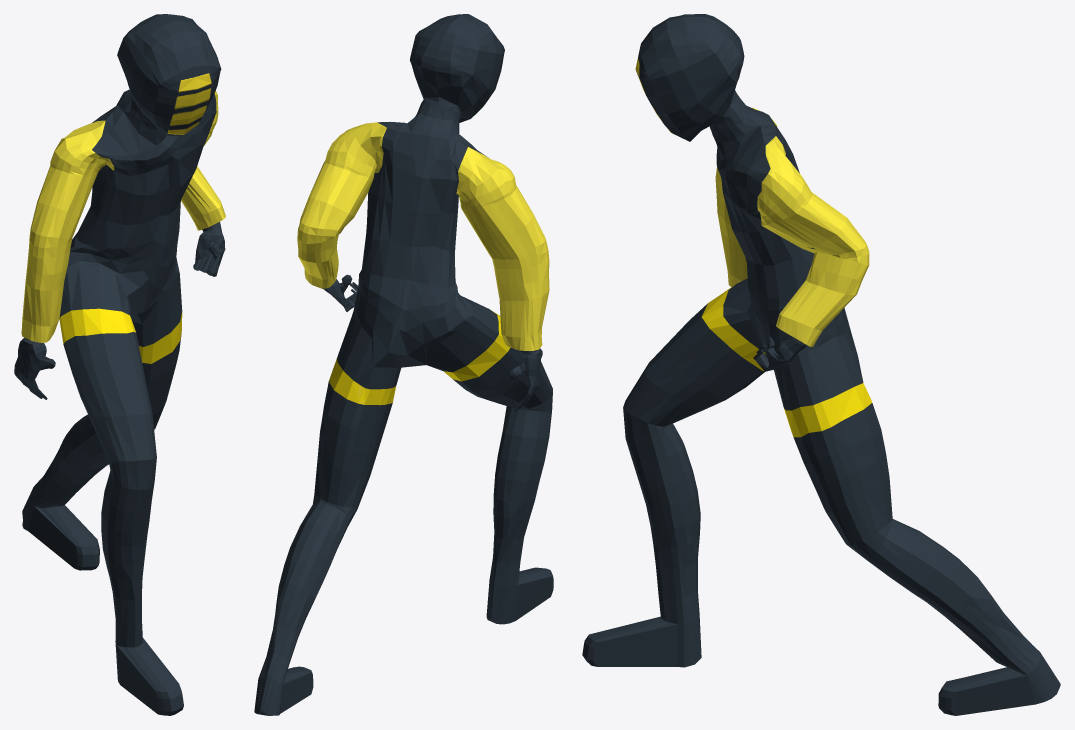
The model's file is Sentry_Stun_Recover_000002.obj.
The picture shows the model from 3 angles, left to right: view 1: azimuth 30°, elevation 25°; view 2: azimuth 150°, elevation 25°; view 3: azimuth 270°, elevation 25°; orthographic projection. The views are drawn at different scales.
Visible parts, largest first — view 1: Cube; view 2: Cube; view 3: Cube.
Boxes of the visible parts, x1,y1,x2,y2 form: Cube: (14,14,225,715); Cube: (254,14,553,715); Cube: (582,14,1060,715).
Size of the model in its own units: 1.27 by 3.45 by 2.23.
